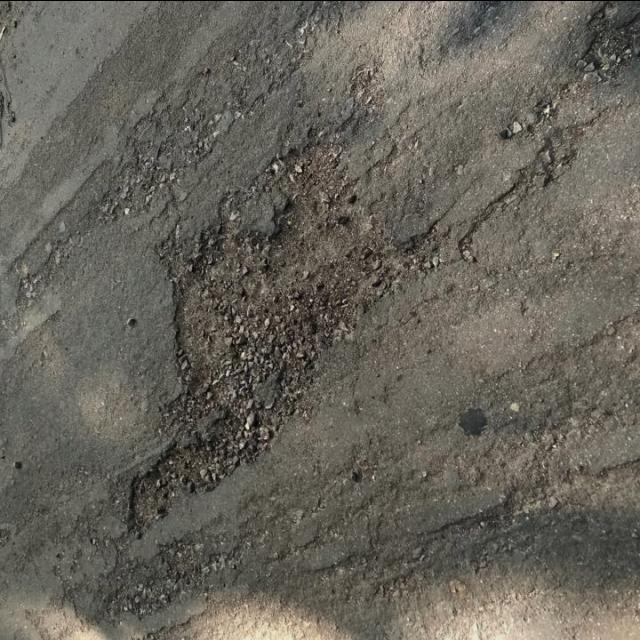pothole: (113, 126, 394, 552), (570, 8, 640, 108), (498, 90, 564, 150)
